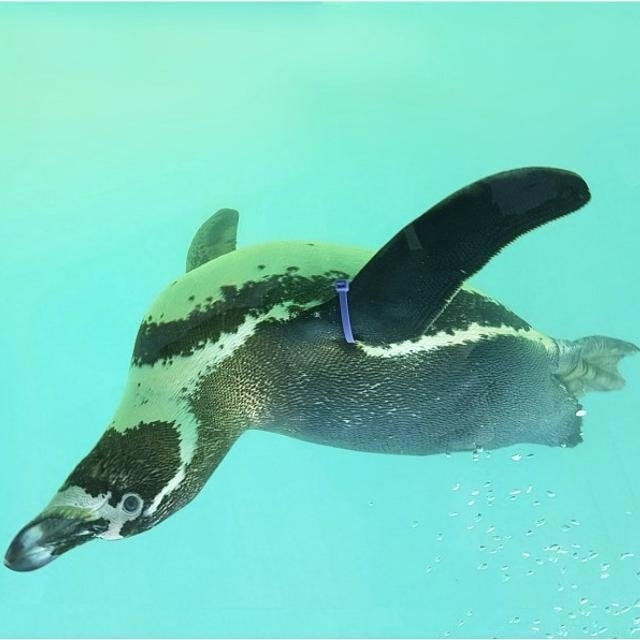penguin: (5, 166, 638, 573)
